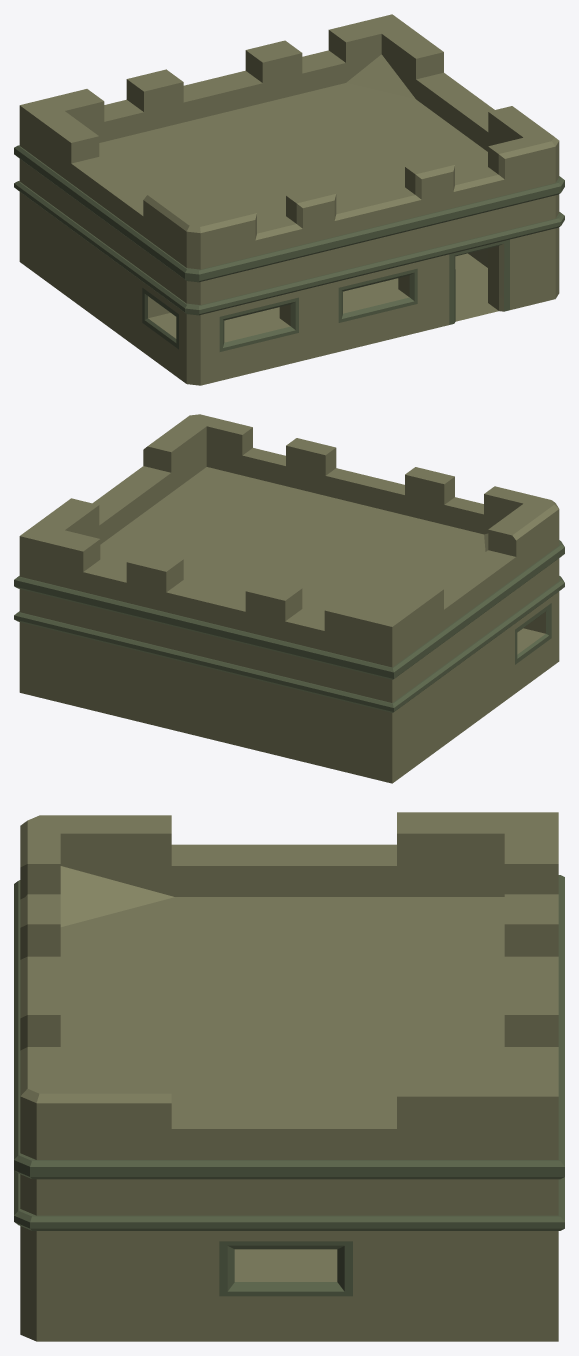
File: home1small.fbx
3 views of the same model, one above another, from view 1: azimuth 30°, elevation 25°; view 2: azimuth 150°, elevation 25°; view 3: azimuth 270°, elevation 25° (orthographic). The views are drawn at different scales.
Visible parts, largest first — view 1: home1small; view 2: home1small; view 3: home1small.
Part boxes in pixels (x1,y1,x2,y2): home1small: [14, 14, 564, 385]; home1small: [14, 414, 564, 783]; home1small: [14, 812, 564, 1341].
Size of the model in its own units: 15.1 by 5.95 by 12.13.
